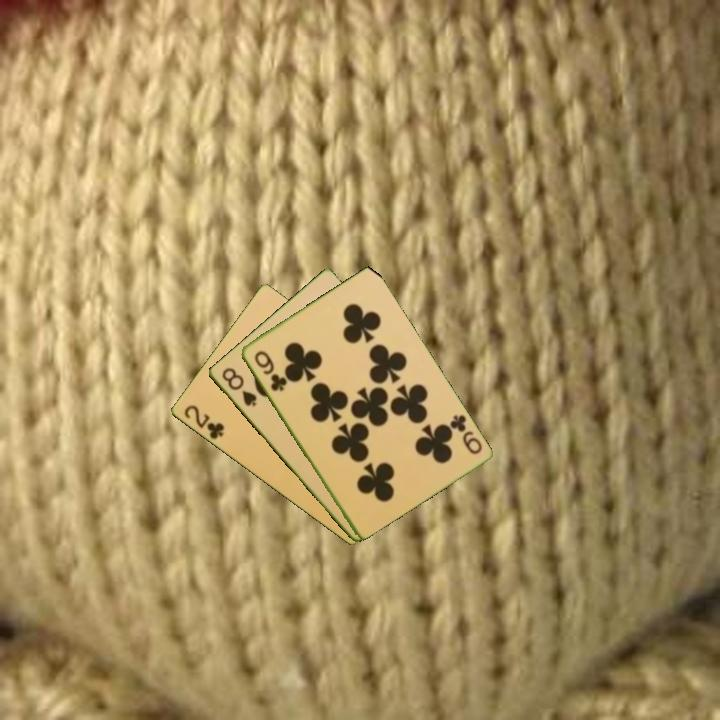2c: (180, 401, 227, 442)
8s: (218, 364, 259, 410)
9c: (250, 347, 289, 395), (446, 411, 485, 457)
